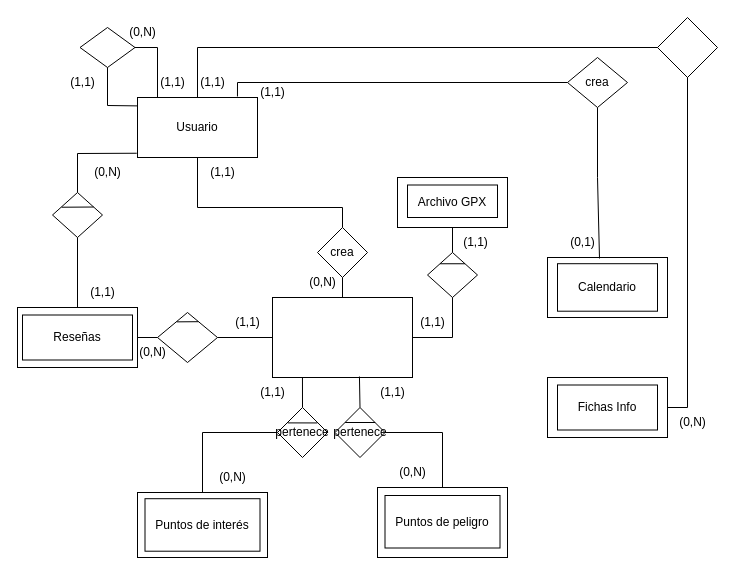
The diagram is 735 pixels wide and 575 high, and some of its shapes have lost their labels. Here are the shapes that lost their labels. From the top down, the centre of each, then its label:
the point at 107,47: valida
the point at 687,47: genera
the point at 77,215: publica
the point at 452,275: se extrae
the point at 187,337: pertenece a
the point at 342,337: Rutas
